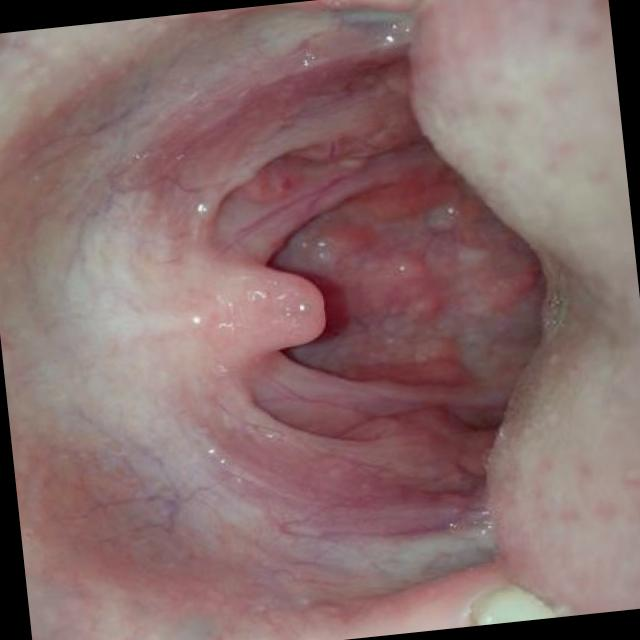Non Pharyngitis: (232, 370, 545, 638), (156, 32, 471, 255)
